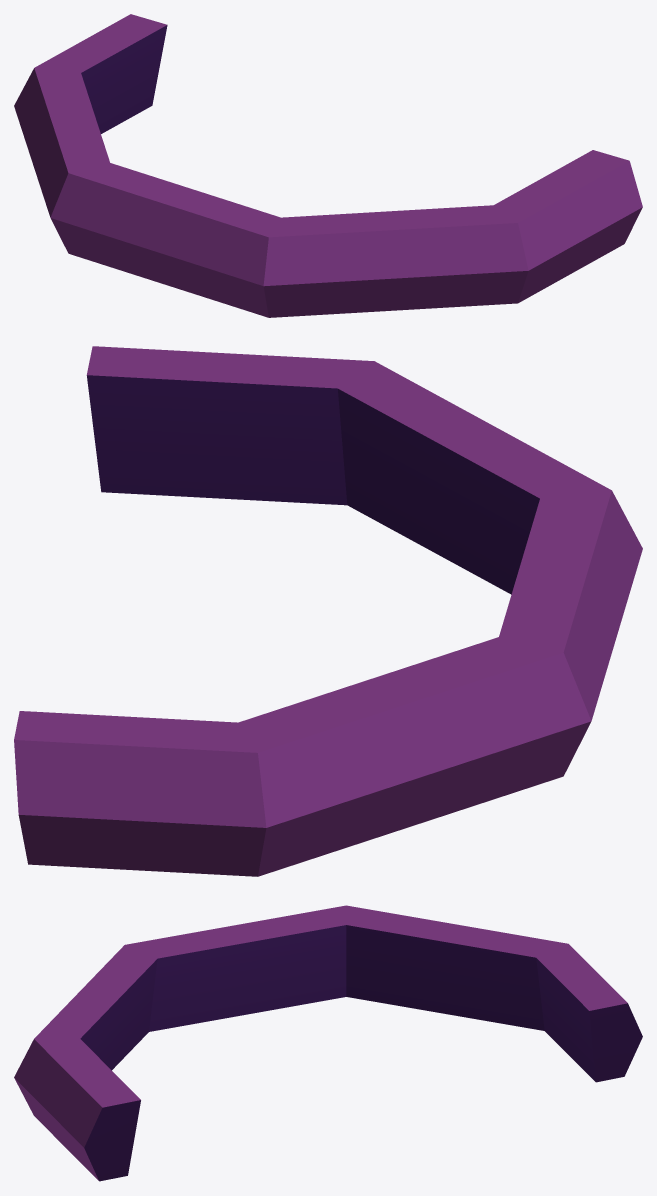
3 renders of one model, top to bottom at view 1: azimuth 30°, elevation 25°; view 2: azimuth 150°, elevation 25°; view 3: azimuth 270°, elevation 25°, orthographic. The views are drawn at different scales.
Visible parts, largest first — view 1: v_13; view 2: v_13; view 3: v_13.
Part boxes in pixels (x1=…): v_13: x1=14, y1=14, x2=642, y2=317; v_13: x1=14, y1=346, x2=642, y2=876; v_13: x1=14, y1=905, x2=642, y2=1181.
Bounding box in the file's own units: 0.3685 × 0.0623 × 0.4612.
Materials: 1 (1 with a texture image).
